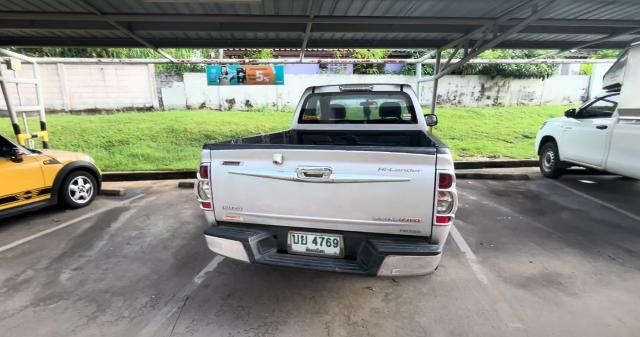pickup-truck: (193, 84, 457, 288)
